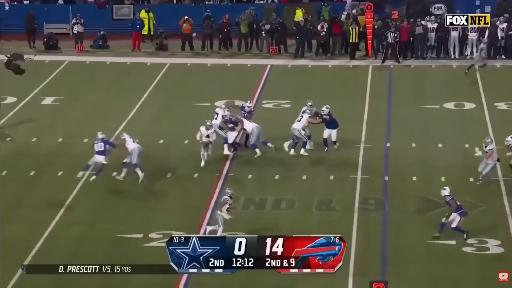Helmet: (441, 186, 451, 197), (483, 136, 494, 146), (321, 105, 330, 115), (223, 109, 230, 119), (505, 135, 511, 145), (206, 120, 212, 129), (226, 188, 233, 195), (245, 101, 252, 108), (122, 132, 129, 139), (97, 132, 105, 138), (306, 101, 313, 107), (304, 109, 312, 114), (430, 16, 435, 23), (475, 9, 481, 14), (499, 17, 504, 23), (483, 38, 488, 44), (221, 104, 226, 109), (425, 17, 429, 22)
Jersey: (444, 195, 467, 217), (93, 139, 115, 156), (197, 126, 216, 142), (212, 107, 228, 125), (292, 114, 311, 129), (122, 136, 139, 151), (323, 112, 338, 129), (484, 144, 498, 162), (242, 119, 257, 133), (222, 195, 233, 214), (241, 105, 254, 119), (498, 23, 507, 39), (228, 118, 239, 131), (428, 23, 438, 37), (300, 106, 315, 115), (468, 26, 478, 38), (479, 43, 486, 58), (450, 27, 461, 36), (508, 144, 511, 152)
Player: (433, 187, 468, 239), (78, 132, 115, 180), (284, 110, 322, 155), (116, 133, 144, 183), (206, 188, 233, 235), (242, 119, 274, 157), (477, 137, 499, 183), (212, 105, 230, 154), (197, 121, 216, 166), (466, 39, 488, 74), (321, 106, 338, 151), (227, 115, 243, 153), (427, 16, 438, 58), (466, 26, 478, 58), (450, 27, 462, 58), (498, 17, 507, 58), (240, 101, 254, 119), (241, 101, 254, 119), (304, 127, 313, 149), (300, 101, 315, 114), (305, 127, 313, 149), (505, 135, 511, 155)
